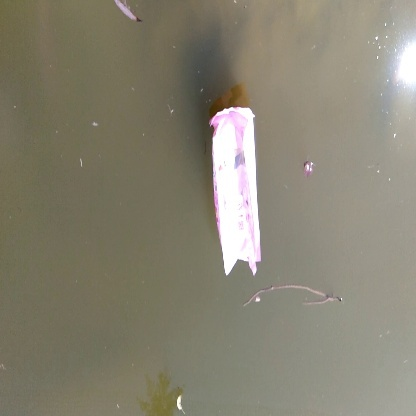plastic-bag: (202, 102, 279, 277)
